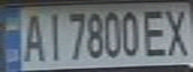0: (103, 7, 124, 60), (121, 7, 142, 58)
7: (63, 8, 87, 61)
8: (84, 8, 106, 60)
A: (18, 9, 45, 63)
E: (139, 6, 172, 57)
I: (42, 8, 66, 62)
X: (163, 5, 193, 57)
